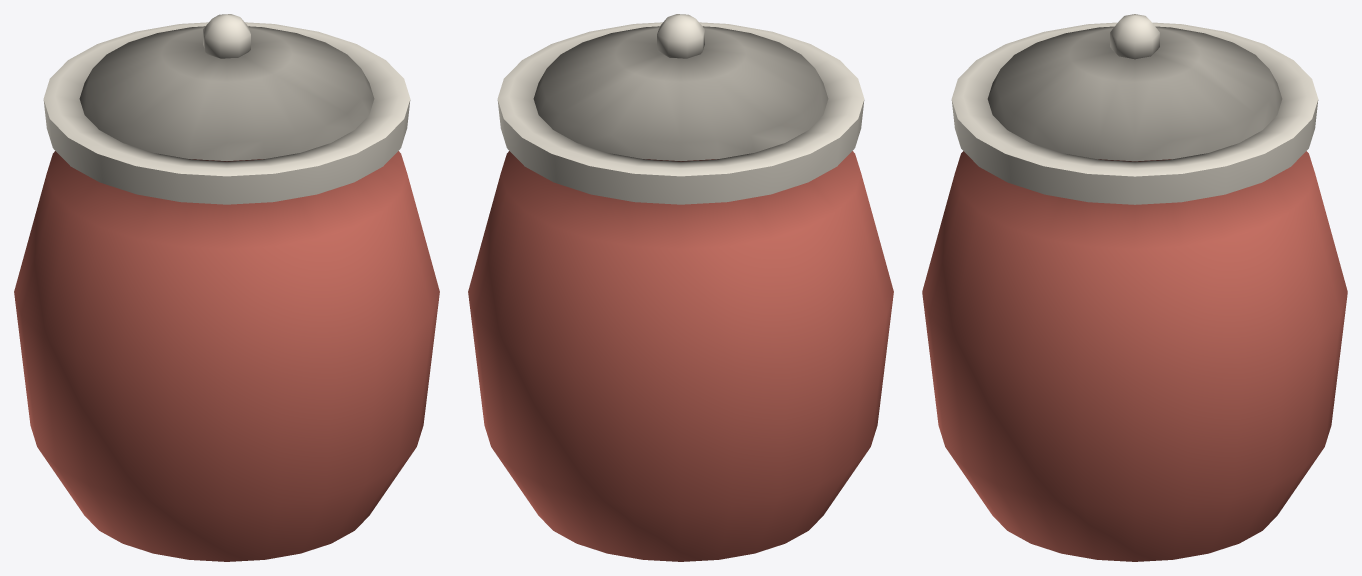
The model's file is cook_jar.glb.
3 views of the same model, side by side, from view 1: azimuth 30°, elevation 25°; view 2: azimuth 150°, elevation 25°; view 3: azimuth 270°, elevation 25° (orthographic).
Visible parts, largest first — view 1: PART; view 2: PART; view 3: PART.
Part boxes in pixels (x1,y1,x2,y2): PART: [14, 14, 439, 561]; PART: [468, 14, 893, 561]; PART: [922, 14, 1347, 561].
Bounding box in the file's own units: 0.26 × 0.326 × 0.26.
